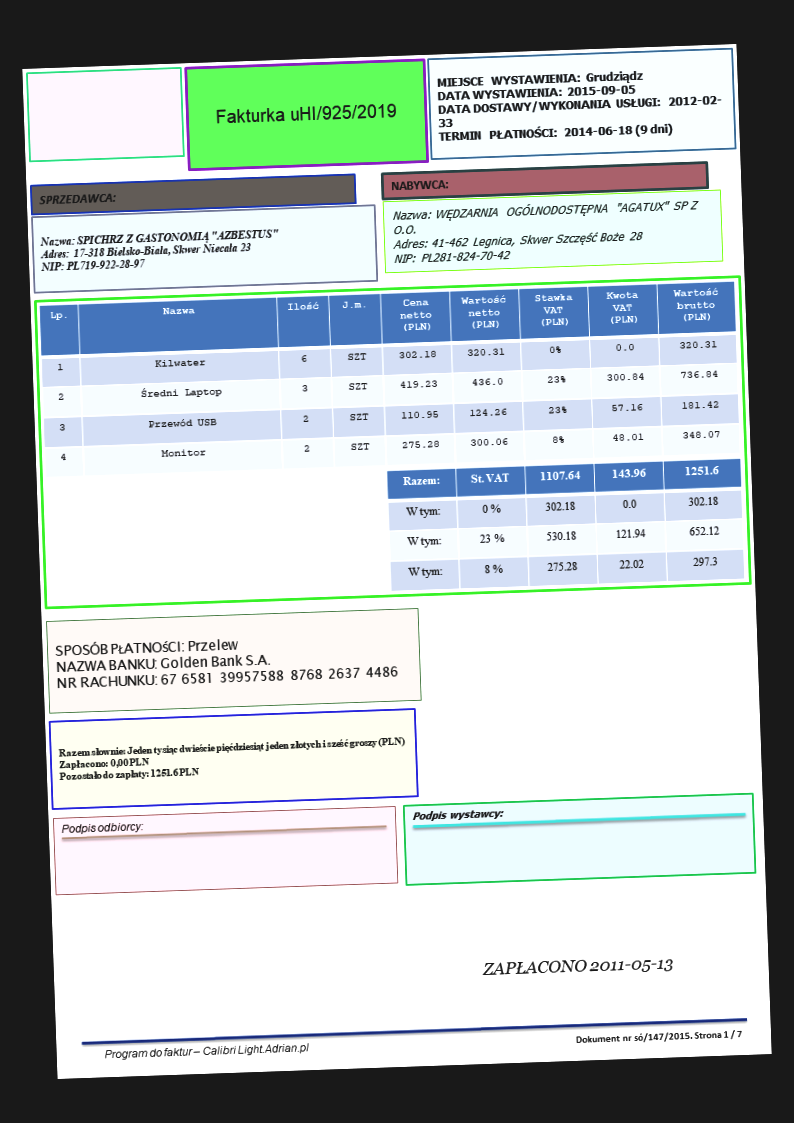Table: (38, 279, 741, 480), (386, 457, 746, 594)
TextBox: (434, 64, 726, 145), (52, 629, 400, 694), (389, 197, 703, 268), (56, 733, 408, 783), (38, 225, 282, 275), (480, 951, 674, 982), (102, 1038, 312, 1064), (213, 100, 400, 128), (574, 1026, 743, 1047), (410, 804, 505, 826), (58, 818, 144, 838), (36, 188, 119, 208), (388, 176, 450, 195)
